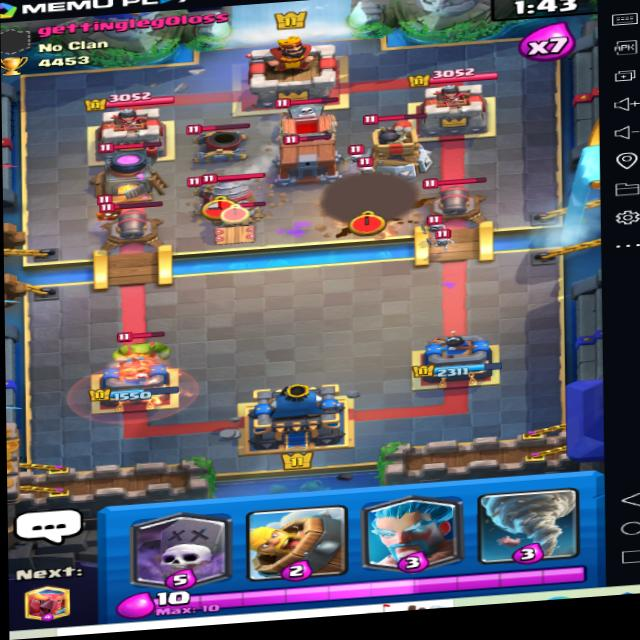bomb-tower: (355, 109, 438, 185)
brawler: (107, 331, 173, 372)
cannon: (419, 172, 490, 229), (102, 199, 167, 249)
fire-spirit: (93, 194, 121, 222)
furnace: (94, 139, 173, 206)
goblin-cage: (273, 128, 347, 184)
goblin-drill: (198, 164, 267, 217)
mortar: (183, 165, 255, 215), (184, 122, 250, 159)
skeleton: (417, 214, 448, 240), (354, 154, 388, 174), (432, 230, 459, 253)
tesla-closed: (200, 197, 265, 248)
tombstone: (270, 93, 347, 143)
